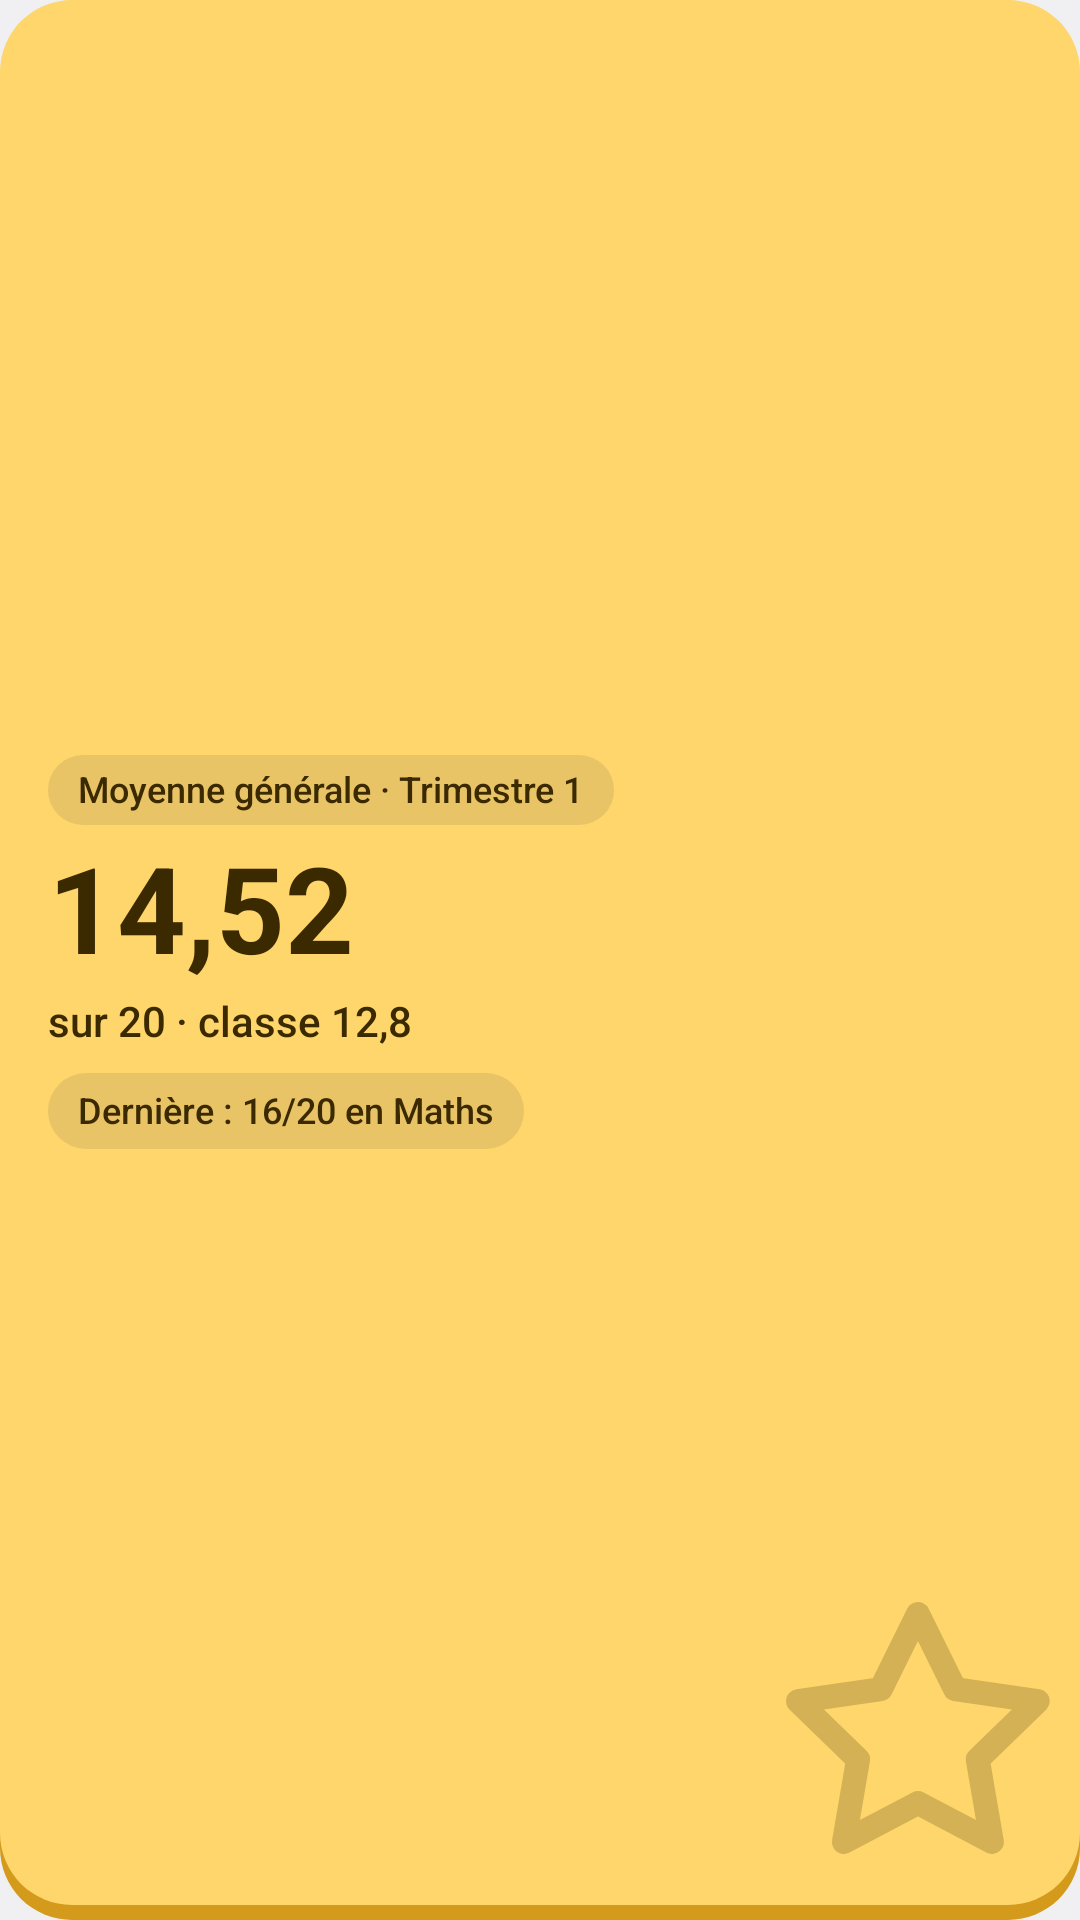

Screen size 1080px×1920px. Icon name, then its box in pixels as BBox(x1, y1, x2, y2):
star: BBox(786, 1602, 1050, 1854)
